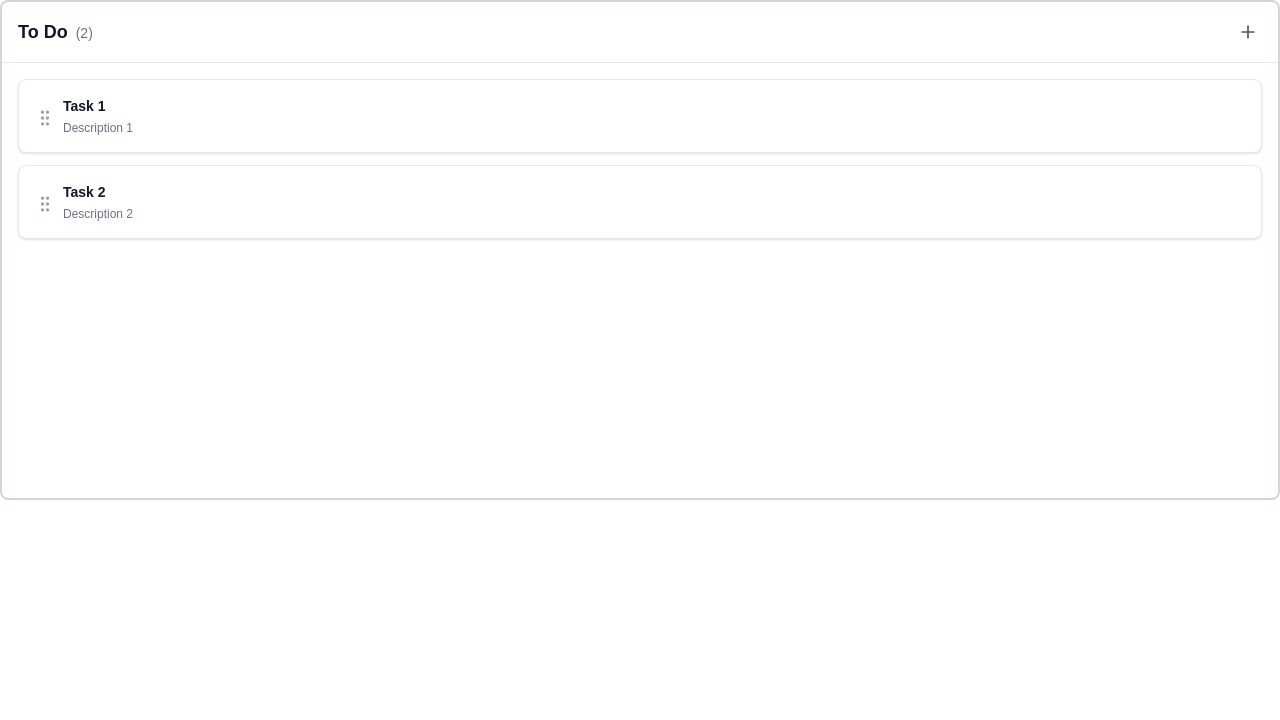
Test case: Column › opens modal when task is clicked
This screenshot has width=1280, height=720.
// Click on the first task card
Click the button "Task 1 Description 1" at point(98, 116), box left=63, top=98, right=133, bottom=135
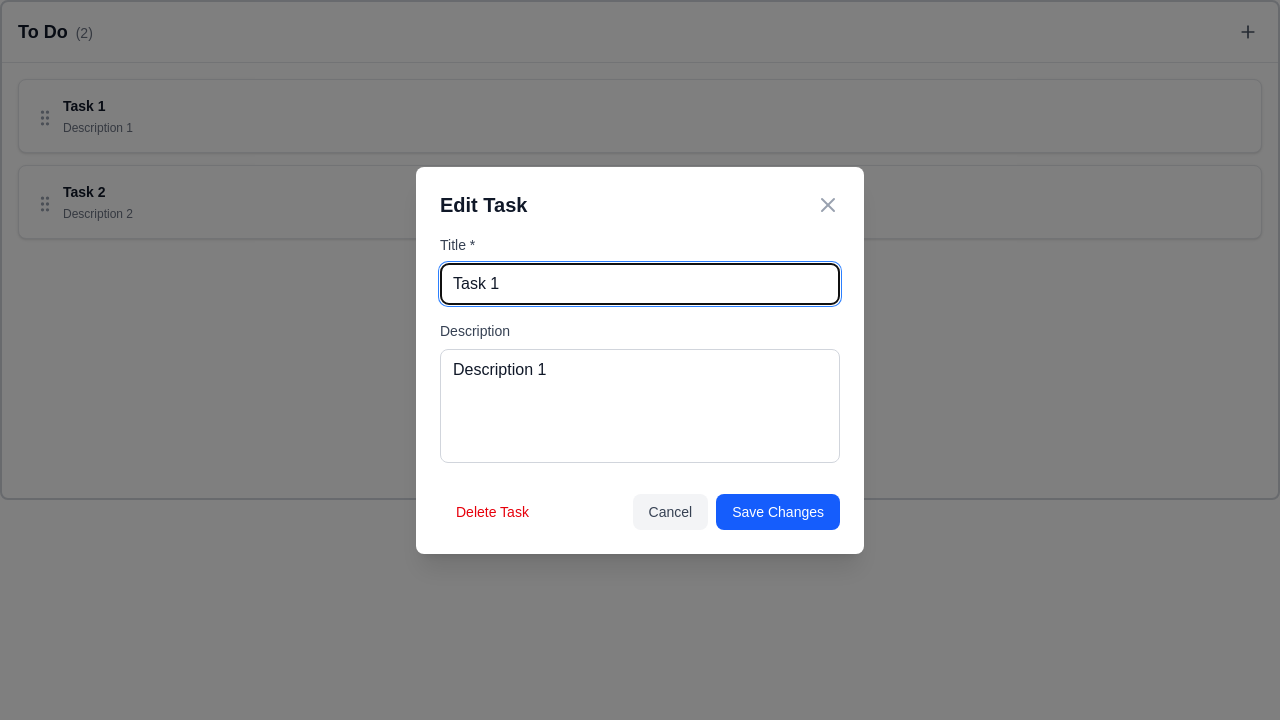
Result: the field showing "Task 1" is shown at left=440, top=262, right=840, bottom=304
Result: the text box showing "Description 1" is shown at left=440, top=348, right=840, bottom=462
